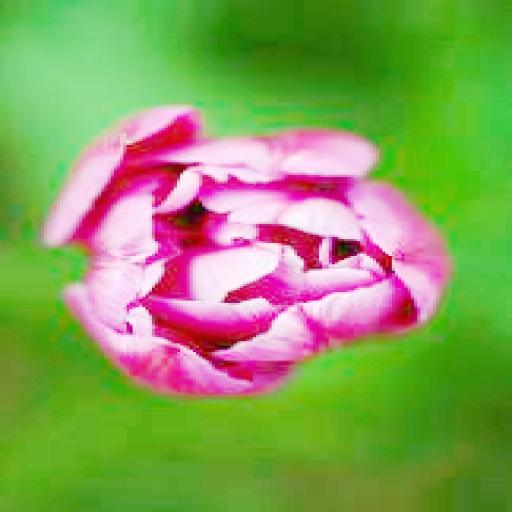tulip: (44, 105, 446, 401)
